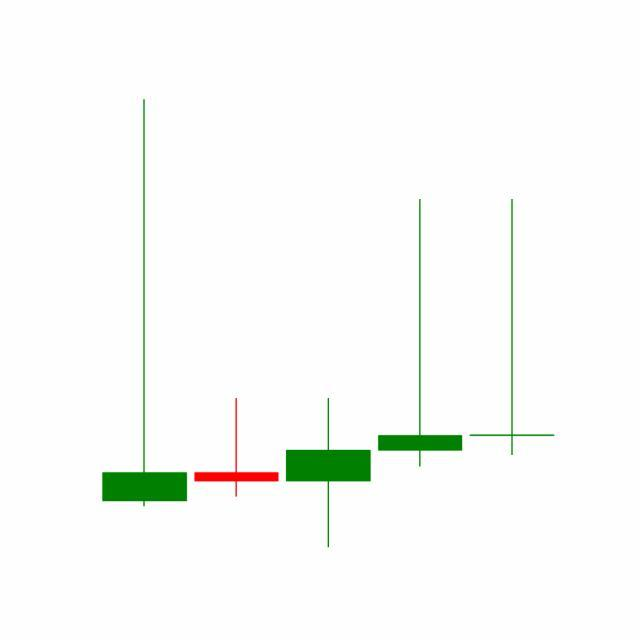Gravestone Doji: (466, 197, 559, 459)
